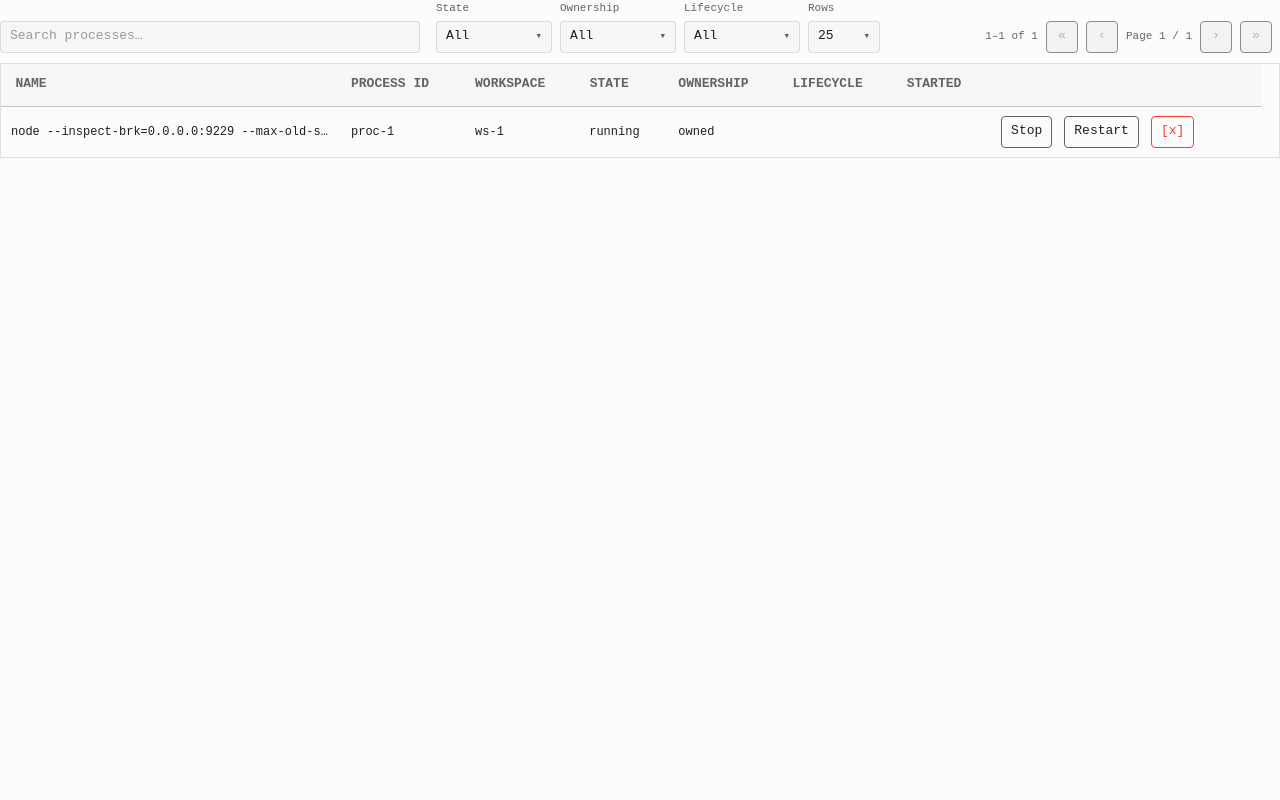
Test: clicking process name opens dialog with full command
What coordinates should you click on to do the following:
click the button "node --inspect-brk=0.0.0.0:9229 --max-old-space-size=4096 server.js --port 8080"
I would click on:
 (171, 132)
Its box is top-left (11, 116), bottom-right (331, 148).
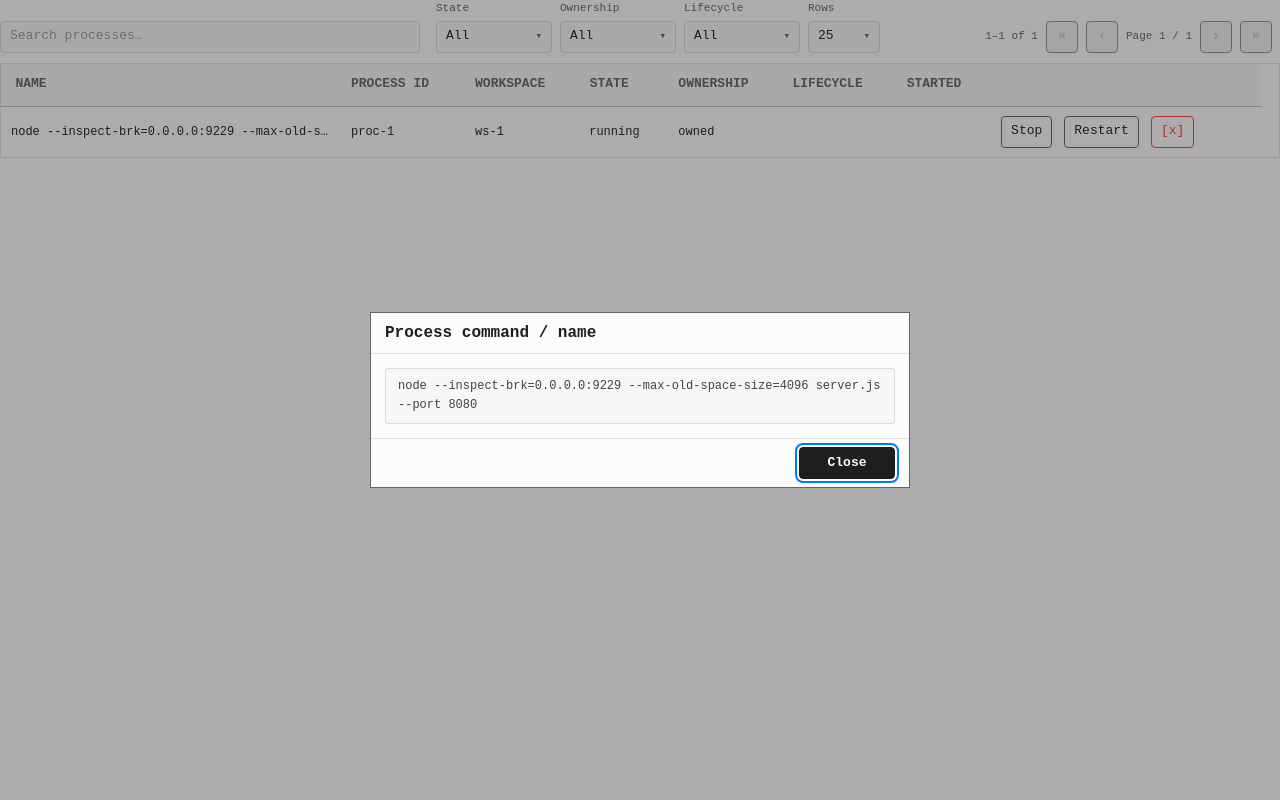
Expected: the heading "Process command / name" is shown, top-left (385, 321), bottom-right (596, 345)
Expected: the text "node --inspect-brk=0.0.0.0:9229 --max-old-space-size=4096 server.js --port 8080" is shown, top-left (385, 368), bottom-right (895, 424)
